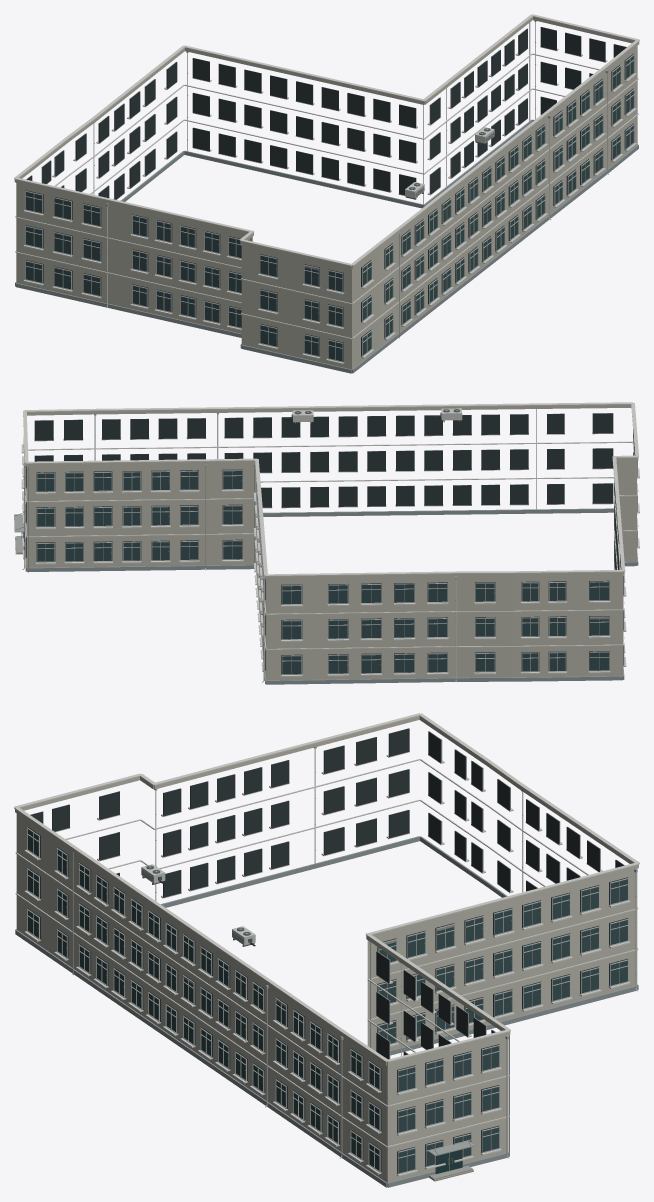
File: osm_way_223944205.glb
The picture shows the model from 3 angles, top to bottom: view 1: azimuth 30°, elevation 25°; view 2: azimuth 150°, elevation 25°; view 3: azimuth 270°, elevation 25°; orthographic projection. The views are drawn at different scales.
Parts seen in each view (by area): view 1: Windows and facade details | 青春剧场, Architecture | 青春剧场, Roof services | 青春剧场, EXTERIOR::osm_way_223944205::rainwater and roof service deta; view 2: Architecture | 青春剧场, Windows and facade details | 青春剧场, Roof services | 青春剧场, EXTERIOR::osm_way_223944205::rainwater and roof service deta; view 3: Windows and facade details | 青春剧场, Architecture | 青春剧场, Roof services | 青春剧场, EXTERIOR::osm_way_223944205::rainwater and roof service deta, EXTERIOR::osm_way_223944205::inferred entry doors canopy and.
Boxes of the visible parts, left/top/right/bottom form: Windows and facade details | 青春剧场: left=23, top=22, right=636, bottom=364; Architecture | 青春剧场: left=14, top=17, right=639, bottom=373; Roof services | 青春剧场: left=14, top=14, right=639, bottom=266; EXTERIOR::osm_way_223944205::rainwater and roof service deta: left=93, top=20, right=608, bottom=308; Architecture | 青春剧场: left=25, top=404, right=638, bottom=684; Windows and facade details | 青春剧场: left=21, top=409, right=639, bottom=676; Roof services | 青春剧场: left=23, top=402, right=638, bottom=576; EXTERIOR::osm_way_223944205::rainwater and roof service deta: left=22, top=408, right=622, bottom=682; Windows and facade details | 青春剧场: left=24, top=728, right=630, bottom=1176; Architecture | 青春剧场: left=15, top=716, right=638, bottom=1187; Roof services | 青春剧场: left=14, top=713, right=639, bottom=1062; EXTERIOR::osm_way_223944205::rainwater and roof service deta: left=141, top=747, right=637, bottom=1158; EXTERIOR::osm_way_223944205::inferred entry doors canopy and: left=428, top=1137, right=475, bottom=1181.
Size of the model in its own units: 86.28 by 15.48 by 65.49.
